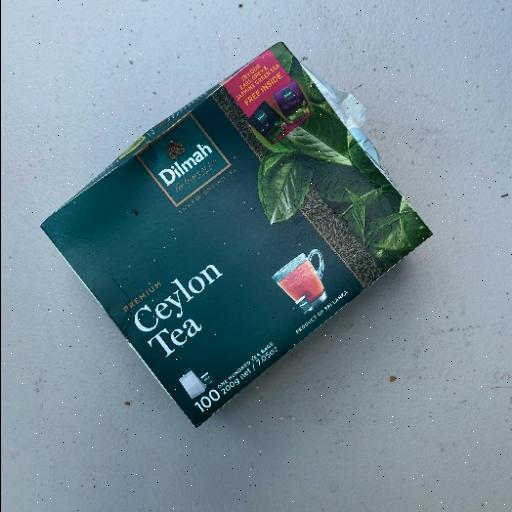Cardboard: (40, 40, 434, 430)
